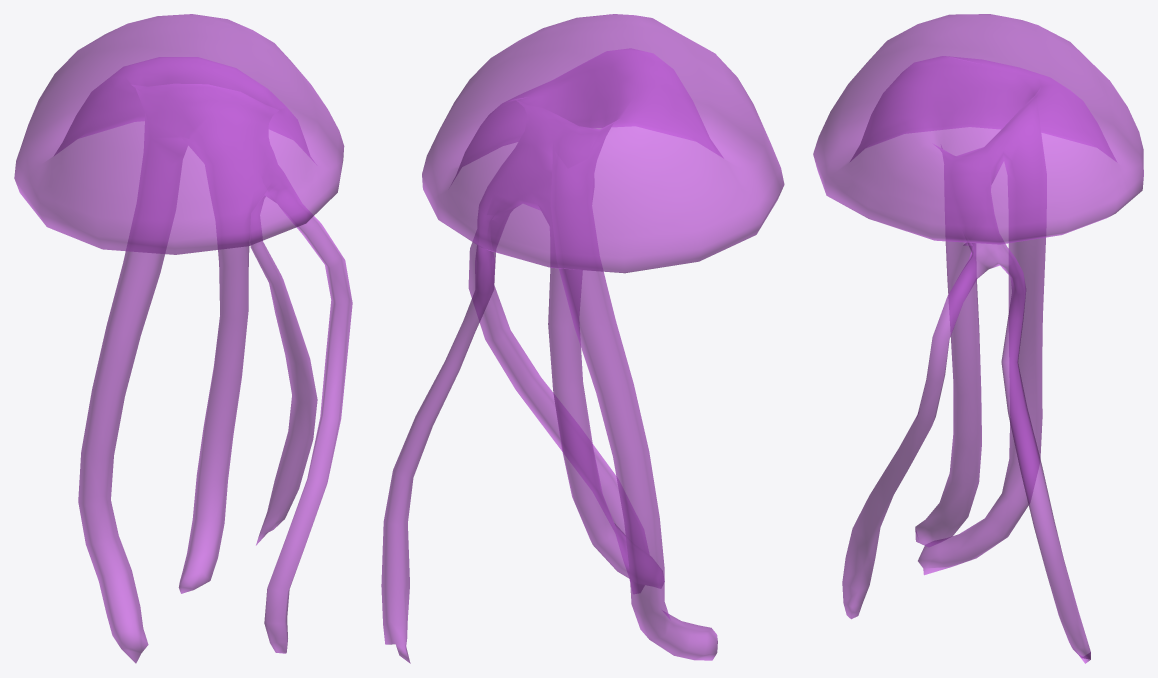
Rendered from jellyfish.obj.
The picture shows the model from 3 angles, left to right: view 1: azimuth 30°, elevation 25°; view 2: azimuth 150°, elevation 25°; view 3: azimuth 270°, elevation 25°; orthographic projection. The views are drawn at different scales.
Parts seen in each view (by area): view 1: Group34460; view 2: Group34460; view 3: Group34460.
Boxes of the visible parts, <box> form: Group34460: <box>14,14,352,663</box>; Group34460: <box>381,14,784,663</box>; Group34460: <box>813,14,1143,663</box>.
Size of the model in its own units: 0.2912 by 0.5321 by 0.2733.
